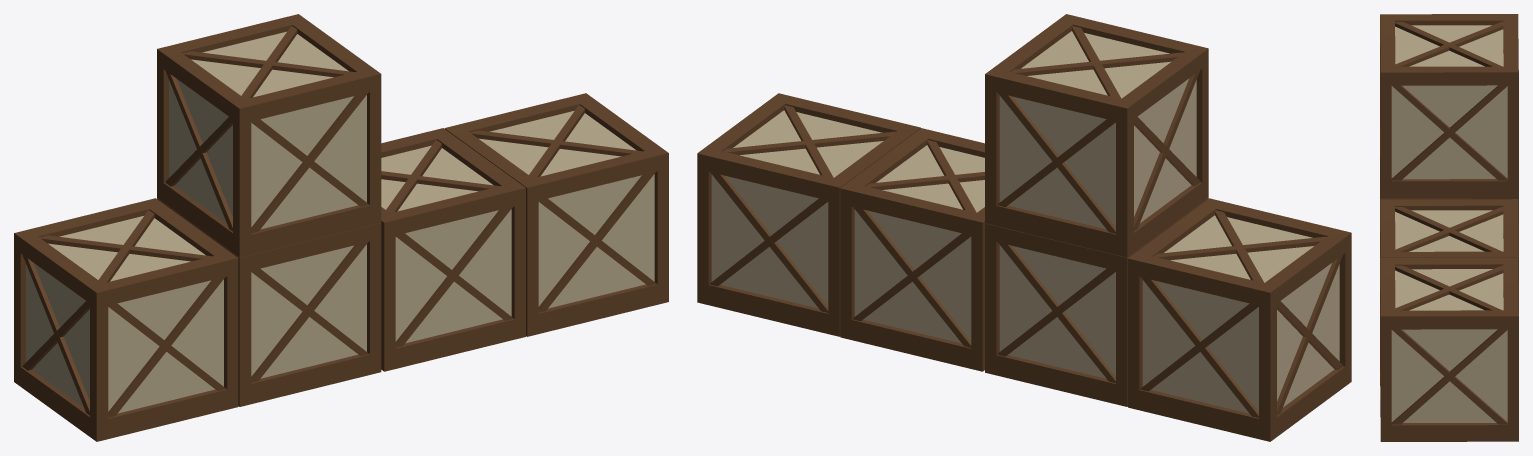
The model's file is Wooden-box.fbx.
The picture shows the model from 3 angles, left to right: view 1: azimuth 30°, elevation 25°; view 2: azimuth 150°, elevation 25°; view 3: azimuth 270°, elevation 25°; orthographic projection. The views are drawn at different scales.
Parts seen in each view (by area): view 1: Wooden-box.002; view 2: Wooden-box.002; view 3: Wooden-box.002.
Boxes of the visible parts, x1,y1,x2,y2 form: Wooden-box.002: [14, 14, 668, 441]; Wooden-box.002: [697, 14, 1351, 441]; Wooden-box.002: [1380, 14, 1518, 441].
Bounding box in the file's own units: 4.84 × 2.41 × 1.2.
